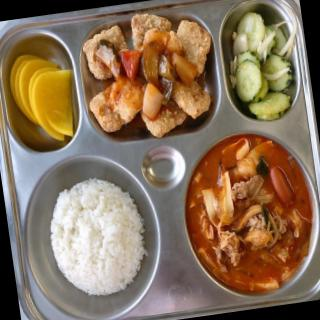Nasi: (41, 172, 153, 305)
